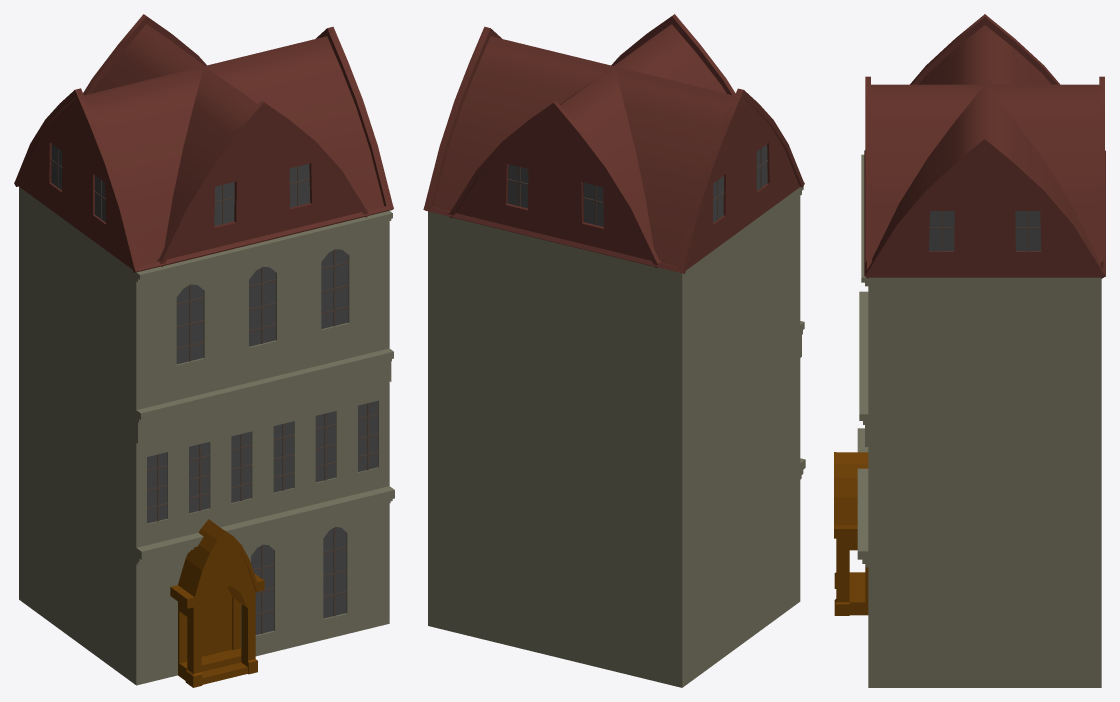
File: house02.fbx
3 renders of one model, left to right at view 1: azimuth 30°, elevation 25°; view 2: azimuth 150°, elevation 25°; view 3: azimuth 270°, elevation 25°, orthographic.
Visible parts, largest first — view 1: roof2, wall03, wall02, wall01, door1, glass02, glass03, glass01, glass_roof, wood2, wood03, wood01; view 2: roof2, wall01, wall02, wall03, glass_roof; view 3: roof2, wall02, wall01, wall03, door1, glass_roof.
Boxes of the visible parts, box(x1,y1,x2,y2) form: roof2: box(14, 14, 393, 272); wall03: box(19, 187, 392, 409); wall02: box(19, 324, 393, 547); wall01: box(19, 462, 394, 685); door1: box(170, 519, 264, 687); glass02: box(147, 401, 378, 523); glass03: box(176, 249, 348, 364); glass01: box(251, 527, 346, 634); glass_roof: box(51, 144, 310, 225); wood2: box(147, 403, 378, 521); wood03: box(176, 249, 348, 361); wood01: box(253, 527, 346, 633); roof2: box(423, 14, 804, 273); wall01: box(428, 458, 805, 687); wall02: box(428, 321, 804, 549); wall03: box(428, 187, 803, 411); glass_roof: box(507, 144, 767, 226); roof2: box(864, 14, 1105, 278); wall02: box(859, 291, 1101, 551); wall01: box(857, 428, 1101, 687); wall03: box(861, 154, 1101, 414); door1: box(834, 452, 868, 615); glass_roof: box(929, 211, 1041, 251).
Size of the model in its own units: 12.82 by 26.22 by 11.75.
